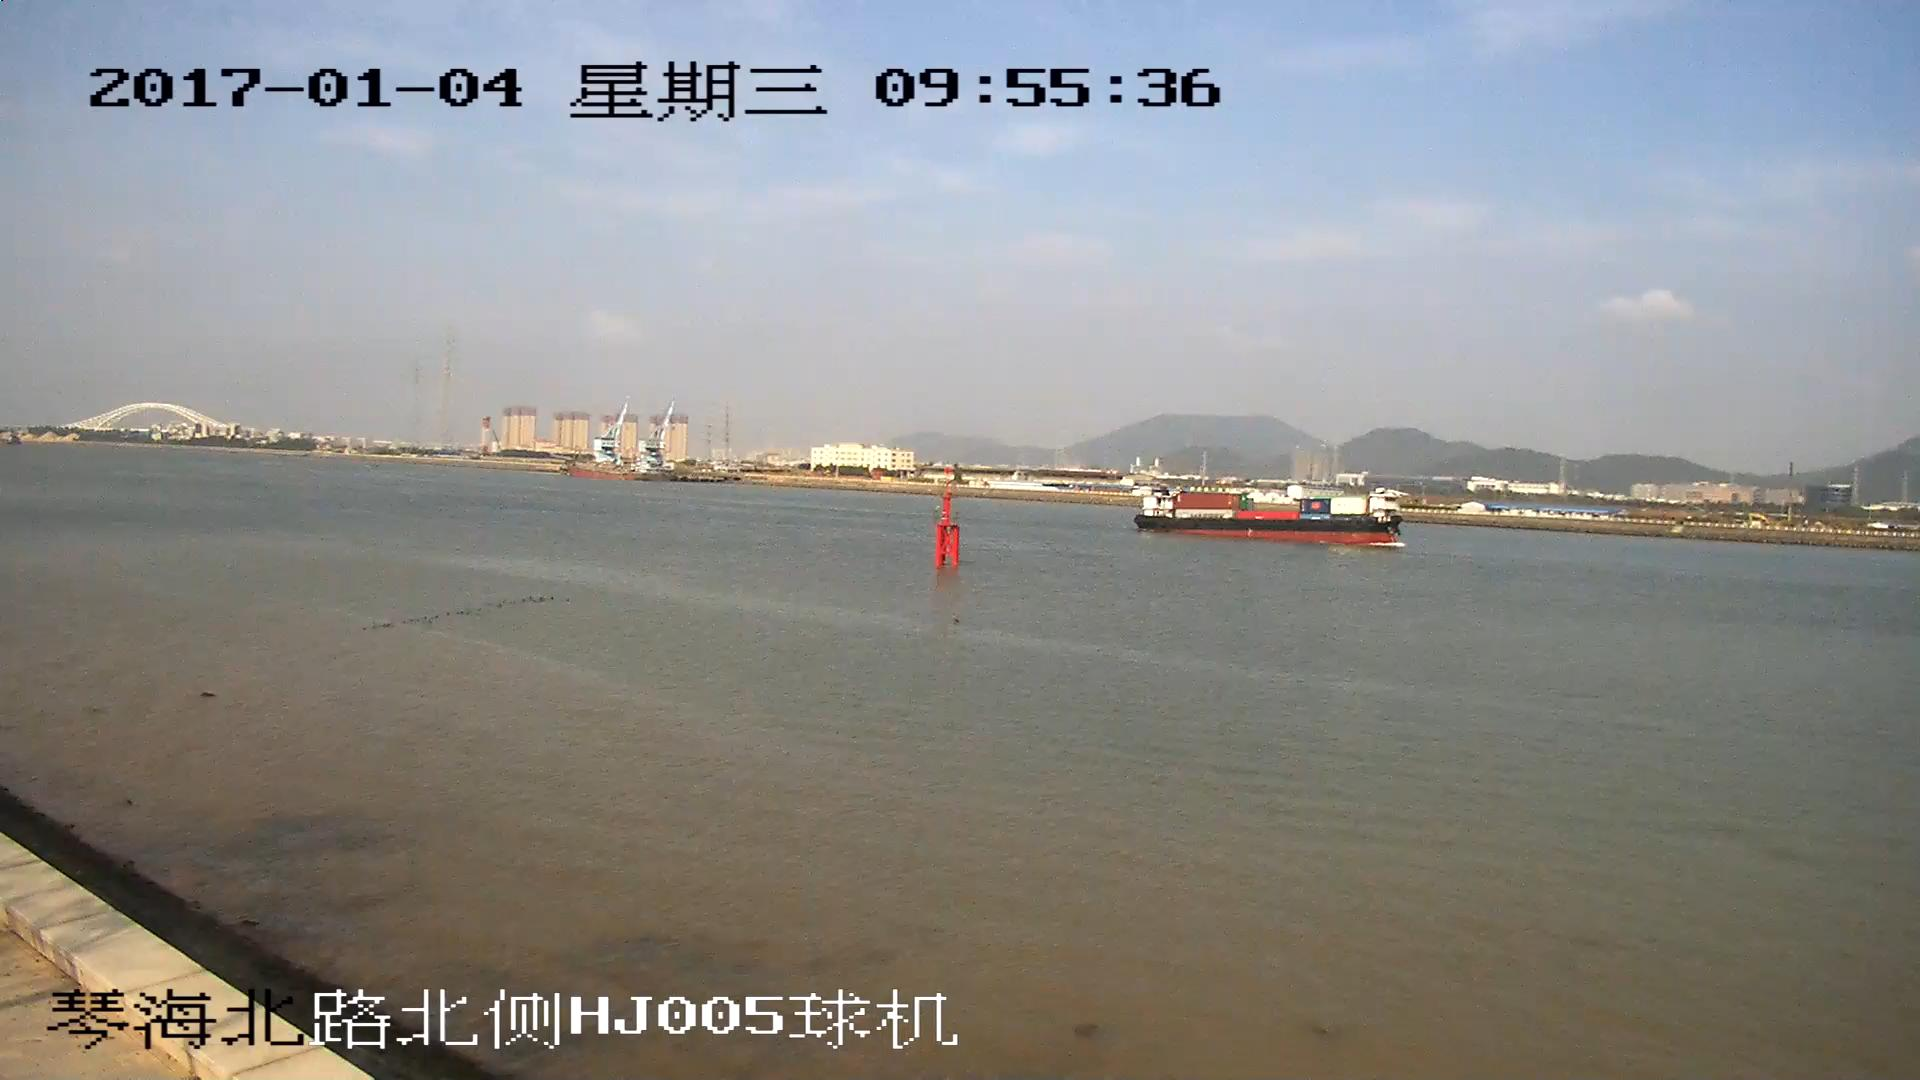container ship: (1138, 486, 1398, 545)
